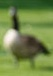goose: (1, 5, 53, 70)
